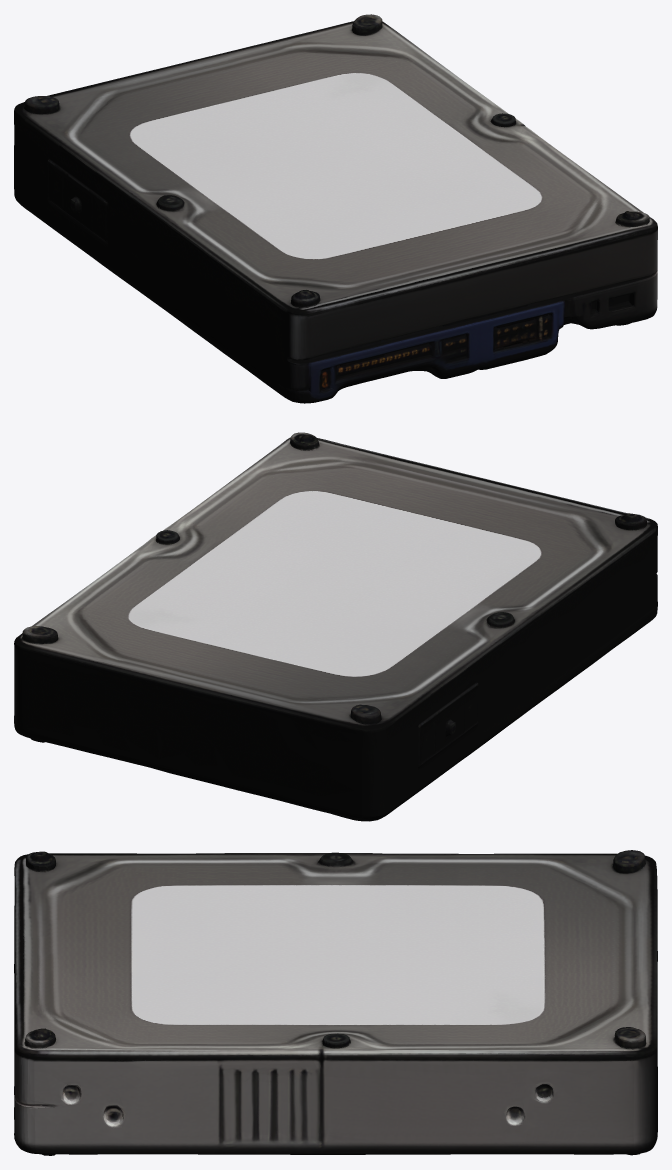
File: hard-drive.glb
3 renders of one model, top to bottom at view 1: azimuth 30°, elevation 25°; view 2: azimuth 150°, elevation 25°; view 3: azimuth 270°, elevation 25°, orthographic. The views are drawn at different scales.
Parts seen in each view (by area): view 1: world; view 2: world; view 3: world.
Part boxes in pixels (x1,y1,x2,y2): world: (14, 14, 657, 403); world: (14, 432, 657, 821); world: (14, 850, 657, 1155).
Size of the model in its own units: 0.7501 by 0.2156 by 1.
Materials: 1 (1 with a texture image).
